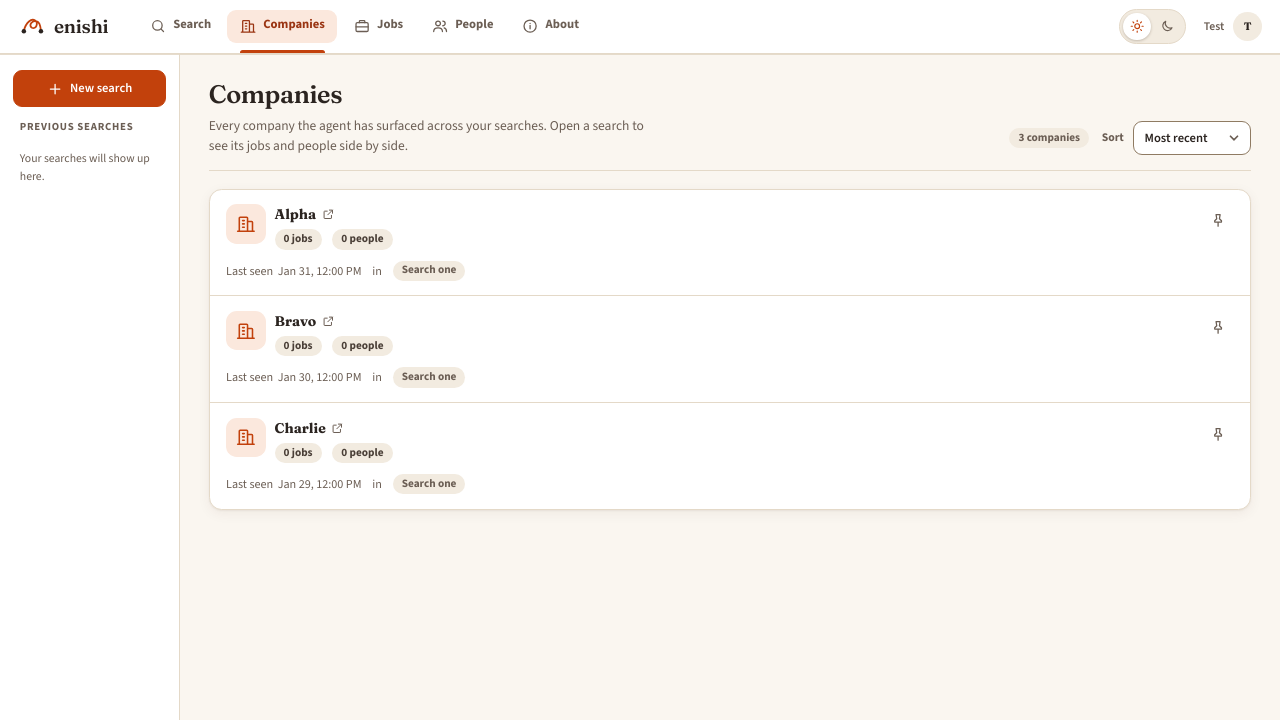
Test: entity pages: pins › a failed PUT rolls the pin back and shows an error
Click the button named "Pin Alpha": (1218, 220) [1202,204,1234,236]
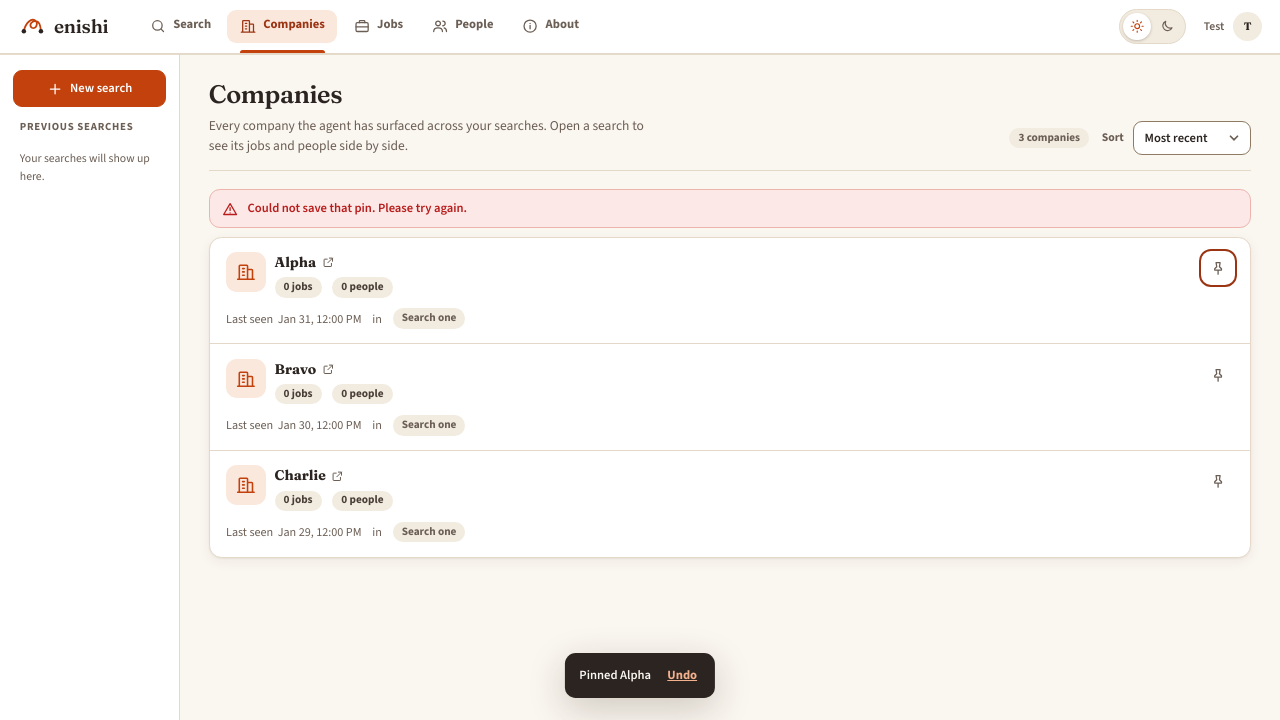
Result: the text "Could not save that pin. Please try again." is shown at [248,199,467,218]
Click the button named "Pin Alpha": (1218, 268) [1202,252,1234,284]
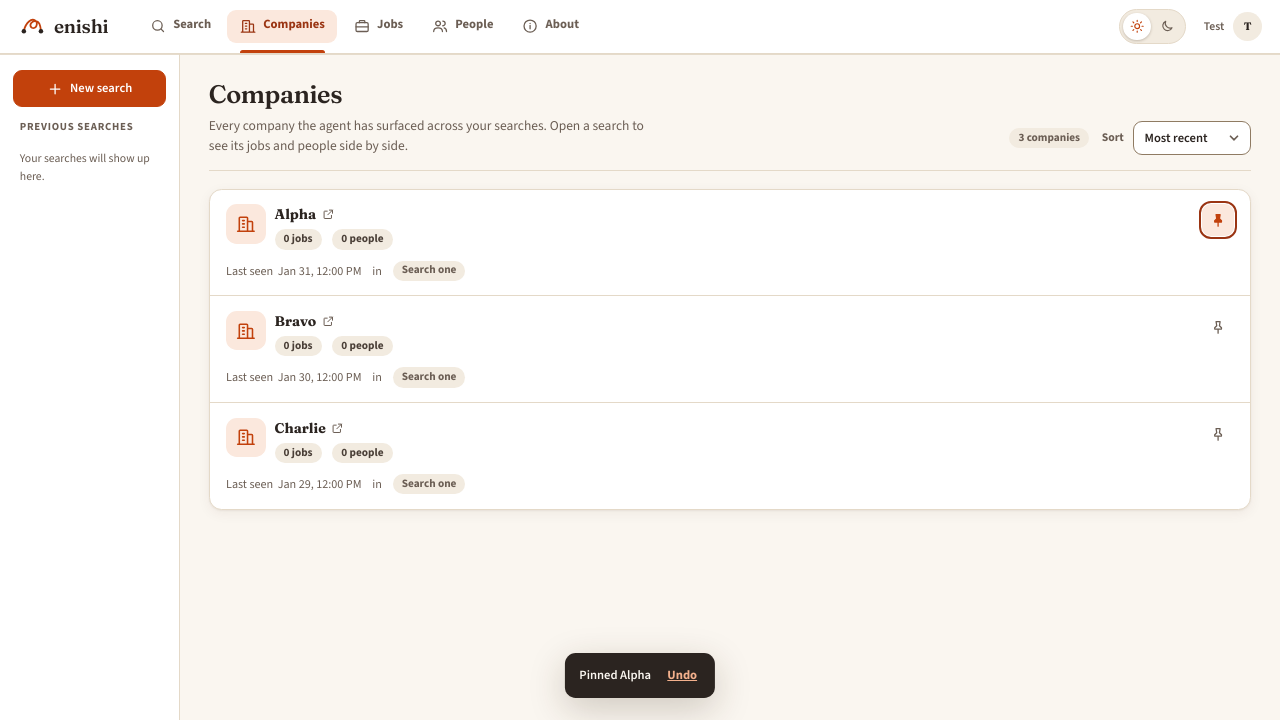
Result: the text "Could not save that pin. Please try again." is gone
